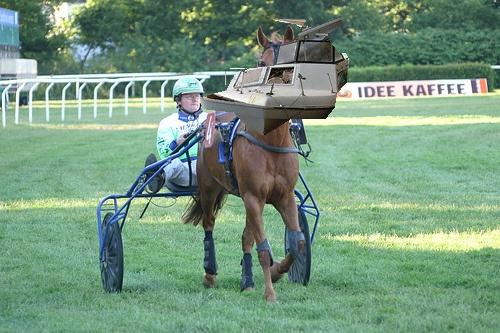tampered: (200, 18, 349, 135)
